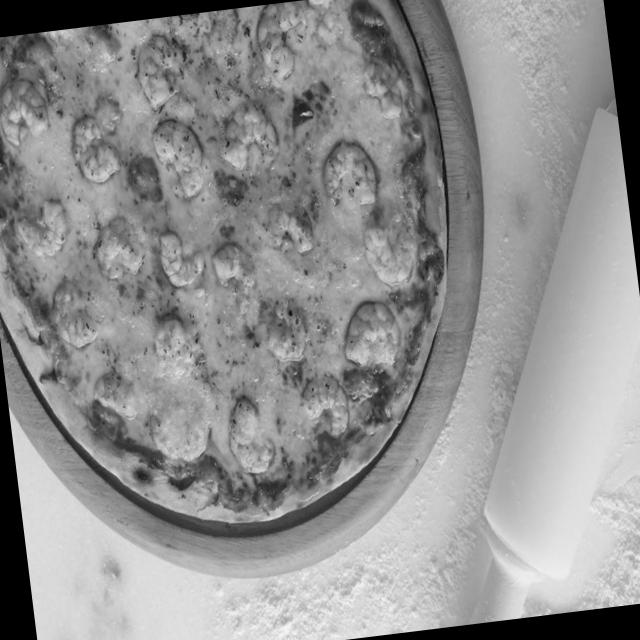camarao: (352, 198, 424, 296), (64, 94, 134, 190), (222, 384, 283, 486), (337, 290, 407, 374), (128, 31, 194, 118), (212, 99, 284, 178), (250, 0, 316, 86), (139, 397, 217, 468), (316, 134, 382, 212), (244, 298, 314, 370), (151, 117, 208, 202), (88, 210, 150, 287), (44, 270, 102, 352), (147, 306, 207, 382), (256, 196, 318, 269), (150, 221, 208, 297), (210, 233, 262, 311), (300, 369, 353, 441), (0, 81, 54, 151), (312, 0, 361, 52)
pizza: (0, 0, 488, 545)
